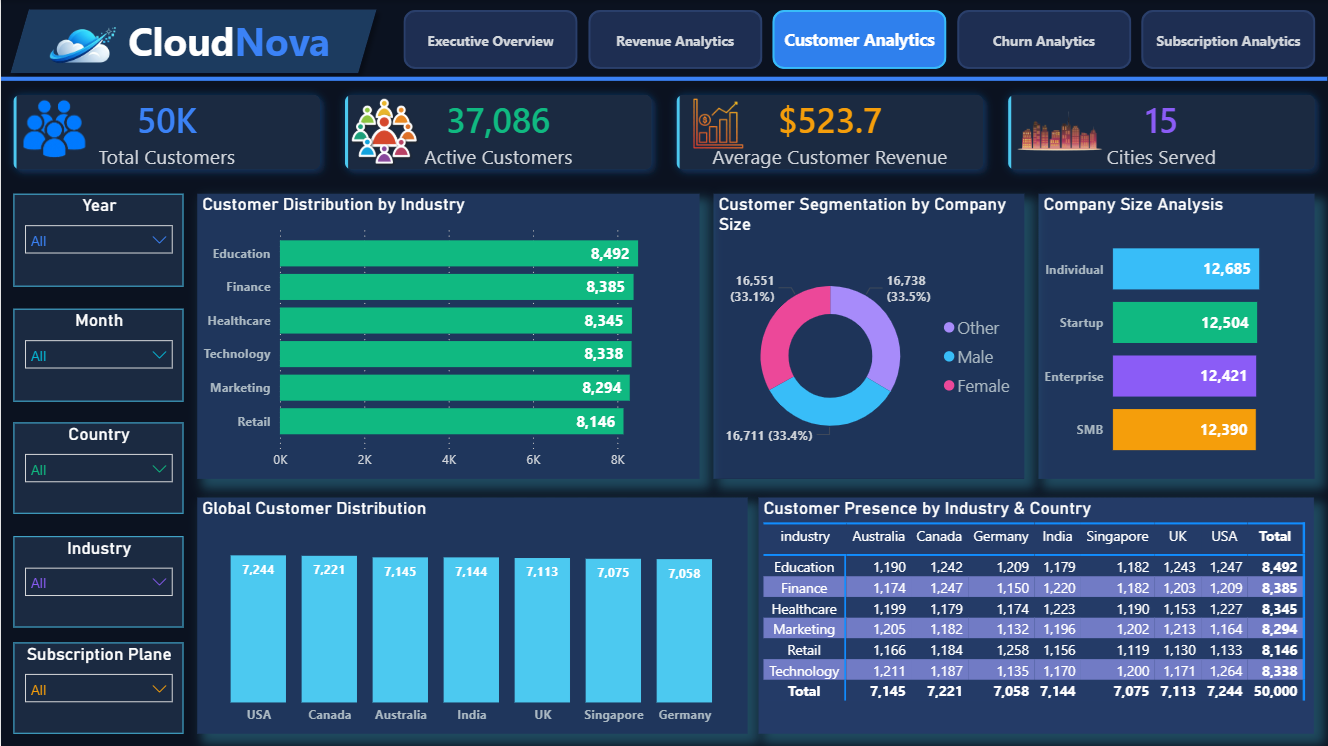

Layout of this report page (visuals, bound fields, positions):
{"tool":"powerbi","page":{"name":"Customer Analytics","canvas":[1280,720],"ordinal":2},"visuals":[{"type":"cardVisual","fields":{"Data":["customers_cleaned.Total Customers","customers_cleaned.Active Customers","customers_cleaned.Average Customer Revenue","customers_cleaned.Cities Served"]},"box":[0,79.6,1280,96.5],"z":0},{"type":"shape","box":[0,0,371.6,79.6],"z":1000},{"type":"textbox","box":[94.1,9.7,252.1,70],"z":2000},{"type":"shape","box":[0,57.5,1280,36.2],"z":3000},{"type":"image","box":[976,79.6,91.7,96.5],"z":4000},{"type":"image","box":[643,94.1,98.9,50.7],"z":5000},{"type":"image","box":[331.8,94.1,78.4,67.6],"z":6000},{"type":"image","box":[21.9,87.6,59.6,73],"z":7000},{"type":"clusteredBarChart","title":"Company Size Analysis","fields":{"Category":["customers_cleaned.company_size"],"Y":["customers_cleaned.Total Customers"]},"box":[1001.3,187,266,275.1],"z":8000},{"type":"donutChart","title":"Customer Segmentation by Company Size","fields":{"Y":["customers_cleaned.Total Customers"],"Category":["customers_cleaned.gender"]},"box":[687.7,187,300,275.1],"z":9000},{"type":"image","box":[0,0,156.8,88.1],"z":10000},{"type":"slicer","title":"Year","fields":{"Values":["Date_Table.Year"]},"box":[12.1,187,164.1,89.3],"z":11000},{"type":"slicer","title":"Country","fields":{"Values":["customers_cleaned.country"]},"box":[12.1,407.8,164.1,88.1],"z":12000},{"type":"slicer","title":"Industry","fields":{"Values":["customers_cleaned.industry"]},"box":[12.1,517.6,164.1,88.1],"z":13000},{"type":"slicer","title":"Subscription Plane","fields":{"Values":["subscriptions_cleaned.plan_name"]},"box":[12.1,620.1,164.1,88.1],"z":14000},{"type":"slicer","title":"Month","fields":{"Values":["Date_Table.Month"]},"box":[12.1,298,164.1,89.3],"z":15000},{"type":"clusteredBarChart","title":"Customer Distribution by Industry","fields":{"Category":["customers_cleaned.industry"],"Y":["customers_cleaned.Total Customers"]},"box":[189.4,187,485,275.1],"z":16000},{"type":"columnChart","title":"Global Customer Distribution","fields":{"Category":["customers_cleaned.country"],"Y":["customers_cleaned.Total Customers"]},"box":[189.4,480.2,530.8,228],"z":17000},{"type":"pivotTable","title":"Customer Presence by Industry & Country","fields":{"Rows":["customers_cleaned.industry"],"Columns":["customers_cleaned.country"],"Values":["customers_cleaned.Total Customers"]},"box":[731.1,480.2,535.7,228],"z":18000},{"type":"pageNavigator","box":[388.5,9.7,884.3,57.9],"z":19000}]}

Visuals, with their boxes in screenshot pixels (x1, y1, x2, y2), scaled from the page's 1280x720 canvas onto the 1328x746 screenshot:
cardVisual - customers_cleaned.Total Customers x customers_cleaned.Active Customers: [x1=0, y1=82, x2=1327, y2=182]
shape: [x1=0, y1=0, x2=386, y2=82]
textbox: [x1=98, y1=10, x2=359, y2=83]
shape: [x1=0, y1=60, x2=1327, y2=97]
image: [x1=1013, y1=82, x2=1108, y2=182]
image: [x1=667, y1=97, x2=770, y2=150]
image: [x1=344, y1=97, x2=426, y2=168]
image: [x1=23, y1=91, x2=85, y2=166]
"Company Size Analysis" clusteredBarChart: [x1=1039, y1=194, x2=1315, y2=479]
"Customer Segmentation by Company Size" donutChart: [x1=713, y1=194, x2=1025, y2=479]
image: [x1=0, y1=0, x2=163, y2=91]
"Year" slicer: [x1=13, y1=194, x2=183, y2=286]
"Country" slicer: [x1=13, y1=423, x2=183, y2=514]
"Industry" slicer: [x1=13, y1=536, x2=183, y2=628]
"Subscription Plane" slicer: [x1=13, y1=642, x2=183, y2=734]
"Month" slicer: [x1=13, y1=309, x2=183, y2=401]
"Customer Distribution by Industry" clusteredBarChart: [x1=197, y1=194, x2=700, y2=479]
"Global Customer Distribution" columnChart: [x1=197, y1=498, x2=747, y2=734]
"Customer Presence by Industry & Country" pivotTable: [x1=759, y1=498, x2=1314, y2=734]
pageNavigator: [x1=403, y1=10, x2=1321, y2=70]
